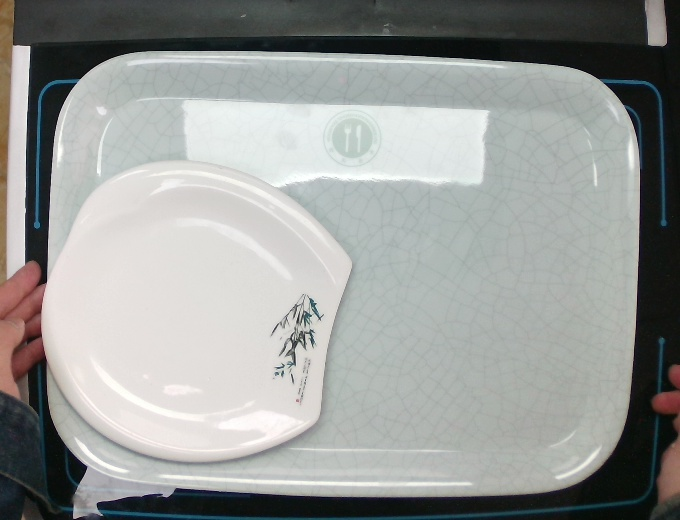JYsf-Mian_Pan: (38, 157, 355, 466)
